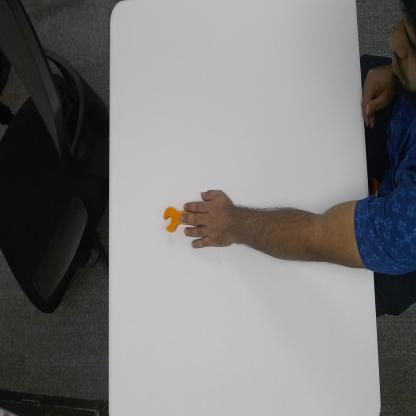Arm: (246, 192, 402, 272)
Hand: (179, 186, 239, 252)
Screwdriver: (160, 199, 185, 235)
